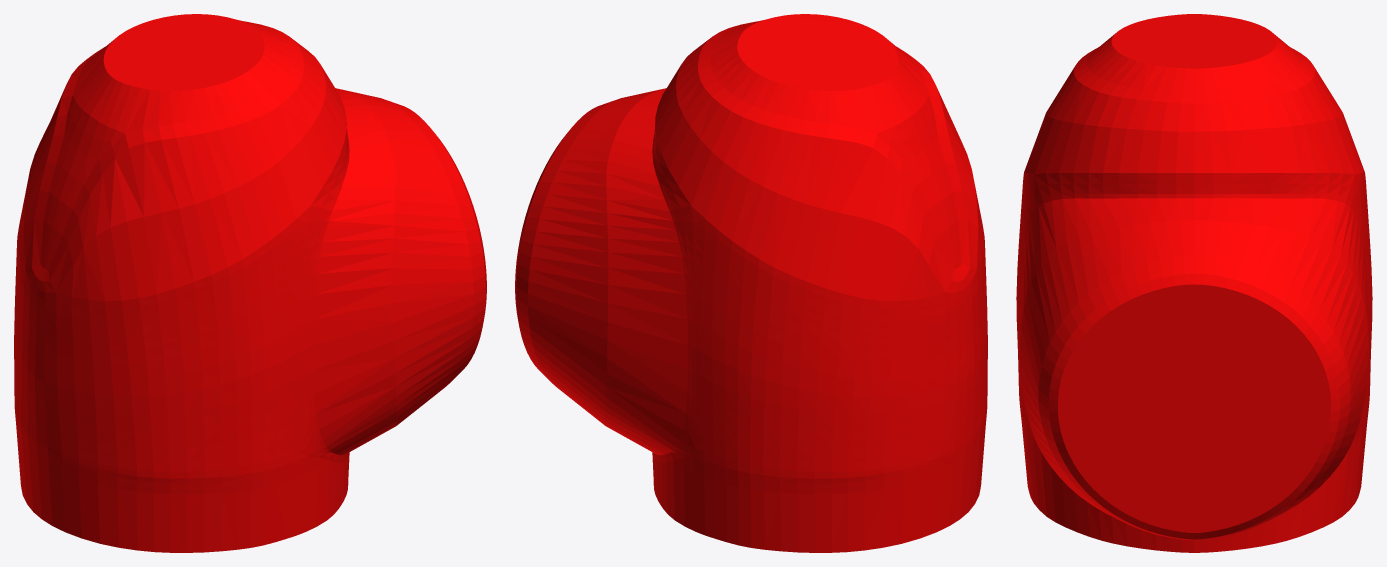
3 renders of one model, left to right at view 1: azimuth 30°, elevation 25°; view 2: azimuth 150°, elevation 25°; view 3: azimuth 270°, elevation 25°, orthographic.
Visible parts, largest first — view 1: MF0609_2_0; view 2: MF0609_2_0; view 3: MF0609_2_0.
Boxes of the visible parts, bbox=[...] form: MF0609_2_0: bbox=[14, 14, 486, 552]; MF0609_2_0: bbox=[515, 14, 987, 552]; MF0609_2_0: bbox=[1016, 14, 1372, 552].
Size of the model in its own units: 176 by 138 by 192.
